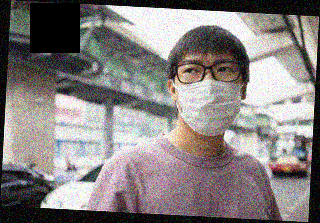with_mask: (174, 54, 243, 138)
